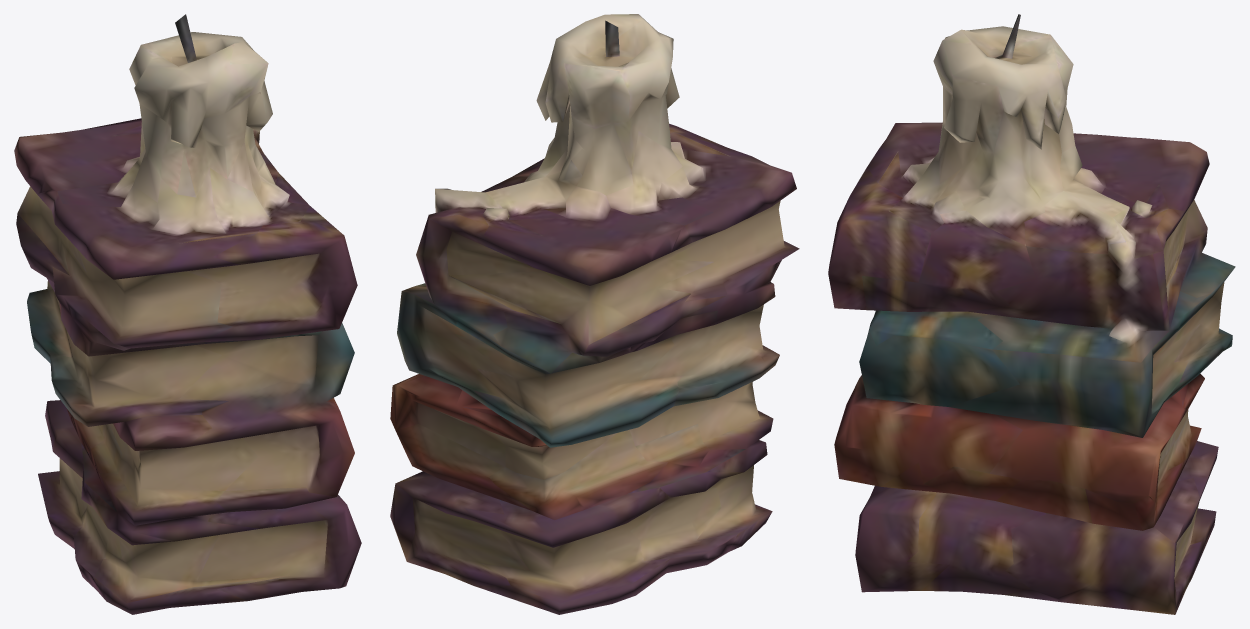
File: books.glb
The picture shows the model from 3 angles, left to right: view 1: azimuth 30°, elevation 25°; view 2: azimuth 150°, elevation 25°; view 3: azimuth 270°, elevation 25°; orthographic projection. The views are drawn at different scales.
Parts seen in each view (by area): view 1: tripo_node_b6768b92-9b77-401f-bd49-dc512c572562; view 2: tripo_node_b6768b92-9b77-401f-bd49-dc512c572562; view 3: tripo_node_b6768b92-9b77-401f-bd49-dc512c572562.
Boxes of the visible parts, x1,y1,x2,y2 form: tripo_node_b6768b92-9b77-401f-bd49-dc512c572562: (14, 14, 361, 614); tripo_node_b6768b92-9b77-401f-bd49-dc512c572562: (390, 14, 799, 614); tripo_node_b6768b92-9b77-401f-bd49-dc512c572562: (828, 14, 1235, 614).
Bounding box in the file's own units: 0.5819 × 1 × 0.6817.
1 material, 1 textured.
